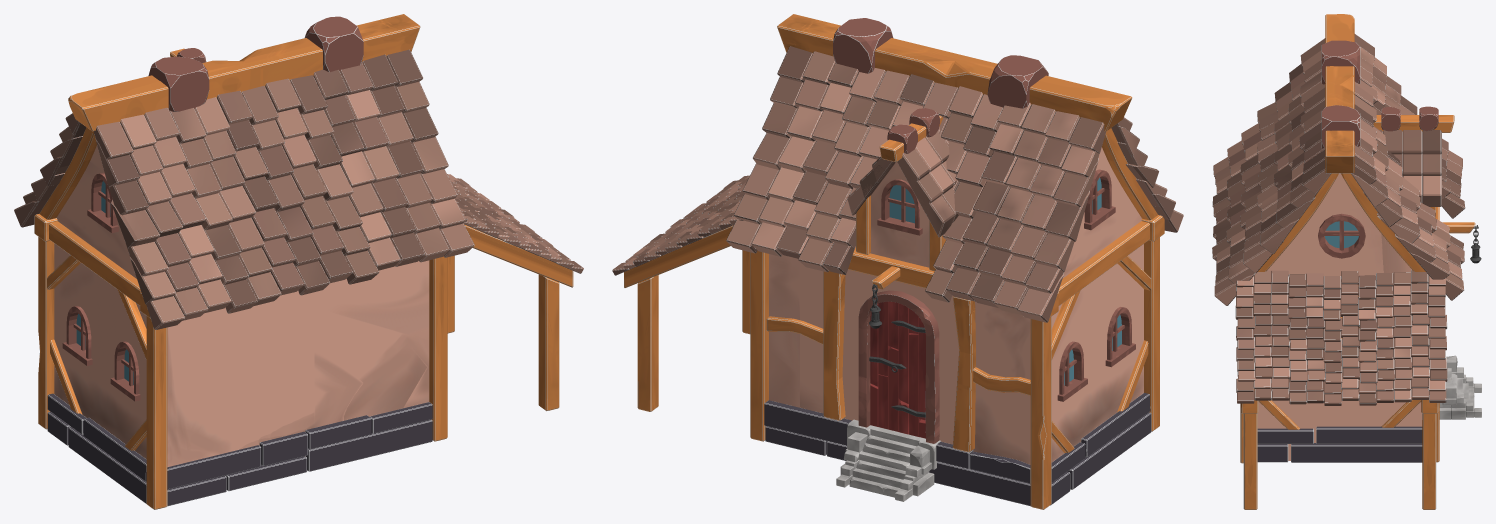
The model's file is house-2.glb.
3 renders of one model, left to right at view 1: azimuth 30°, elevation 25°; view 2: azimuth 150°, elevation 25°; view 3: azimuth 270°, elevation 25°, orthographic. The views are drawn at different scales.
Visible parts, largest first — view 1: Cube.004, Cube, Cube.003, Cube.025, Cube.015, Cube.064, Cube.065, Cube.063; view 2: Cube.004, Cube.003, Cube, Cube.025, Cube.073, Cube.067, Cube.015, Bevel, Cube.033, Cube.026, Cube.063, Cube.064 (+1 smaller); view 3: Cube.004, Cube.003, Cube, Cube.025, Cube.015, Cube.067, Cylinder.002.
Boxes of the visible parts, x1,y1,x2,y2 form: Cube.004: [14, 49, 583, 329]; Cube: [54, 145, 429, 466]; Cube.003: [34, 14, 573, 509]; Cube.025: [47, 393, 432, 506]; Cube.015: [148, 16, 363, 111]; Cube.064: [110, 341, 140, 401]; Cube.065: [62, 306, 92, 365]; Cube.063: [87, 172, 118, 233]; Cube.004: [612, 46, 1183, 322]; Cube.003: [624, 14, 1164, 509]; Cube: [769, 147, 1143, 464]; Cube.025: [764, 393, 1151, 506]; Cube.073: [870, 301, 925, 438]; Cube.067: [836, 419, 941, 501]; Cube.015: [833, 18, 1048, 153]; Bevel: [858, 290, 939, 443]; Cube.033: [870, 162, 929, 267]; Cube.026: [877, 179, 922, 235]; Cube.063: [1084, 169, 1115, 230]; Cube.064: [1105, 307, 1135, 367]; Cube.004: [1212, 34, 1465, 405]; Cube.003: [1240, 14, 1475, 509]; Cube: [1257, 173, 1422, 460]; Cube.025: [1257, 426, 1422, 462]; Cube.015: [1321, 40, 1438, 148]; Cube.067: [1439, 355, 1481, 419]; Cylinder.002: [1318, 213, 1365, 258].
Size of the model in its own units: 4.91 by 3.99 by 2.96.
13 materials, 6 textured.
